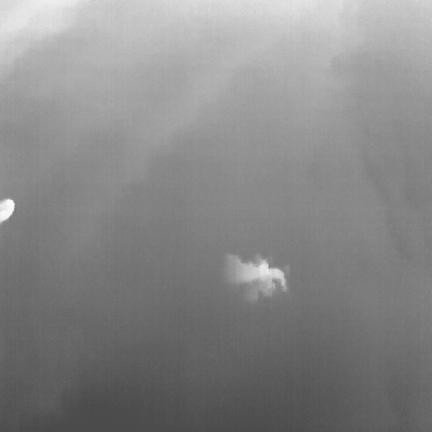flukeprints: (234, 256, 287, 289), (0, 198, 14, 223)
